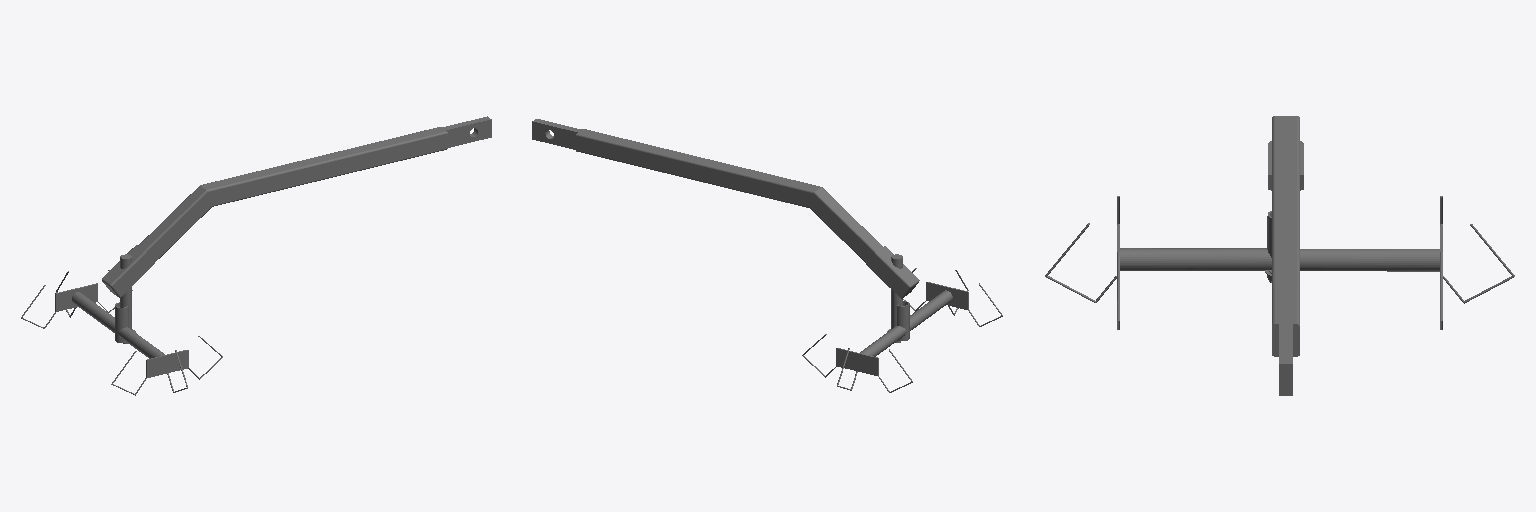
The robot description file, URDF, robot "hoyer_sling":
<?xml version="1.0"?>
<robot name="hoyer_sling">



  <!-- Base Link -->
  <link name="base">
    <inertial>
      <origin xyz="0 0 0" rpy="0 0 0"/>  <!-- Keep inertial origin neutral -->
      <mass value="5.0"/>  
      <inertia ixx="0.5" ixy="0.0" ixz="0.0" iyy="0.5" iyz="0.0" izz="0.5"/>  
    </inertial>
    <visual>  
      <origin xyz="0 0.5 0" rpy="1.57 0 0"/>  <!-- Apply rotation to visual -->
      <geometry>
        <mesh filename="package://hoyer_sling_urdf/meshes/hoyer_lift_agent_urdf/base.STL" scale="0.001 0.001 0.001"/>
      </geometry>
      <material name="grey">
	      <color rgba="0.5 0.5 0.5 1.0"/>
      </material>
    </visual>
    <collision>
      <origin xyz="0 0 0" rpy="1.57 0 0"/>  <!-- Apply rotation to collision geometry if necessary -->
      <geometry>
        <mesh filename="package://hoyer_sling_urdf/meshes/hoyer_lift_agent_urdf/base.STL" scale="0.001 0.001 0.001"/>
      </geometry>
    </collision>
  </link>

  <!-- Lift Link -->
    <link name="lift">
    <inertial>
      <origin xyz="0 0 0" rpy="-1.57 0 0"/>
      <mass value="10.0"/>  
      <inertia ixx="1.0" ixy="0.0" ixz="0.0" iyy="1.0" iyz="0.0" izz="1.0"/>  <!-- 设置惯性矩 -->
    </inertial>
    <visual>
      <origin xyz="-0.001 -0.025 -0.2" rpy="1.57 0 3.14159"/>  <!-- Apply rotation to visual -->
      <geometry>
        <mesh filename="package://hoyer_sling_urdf/meshes/hoyer_lift_agent_urdf/lift.STL" scale="0.001 0.001 0.001"/>
      </geometry>
      <material name="grey">
    <color rgba="0.5 0.5 0.5 1.0"/>
      </material>
    </visual>
    <collision>
    <origin xyz="-0.001 -0.025 -0.2" rpy="1.57 0 3.14159"/>   <!-- Apply rotation to collision geometry if necessary -->
      <geometry>
        <mesh filename="package://hoyer_sling_urdf/meshes/hoyer_lift_agent_urdf/lift.STL" scale="0.001 0.001 0.001"/>
      </geometry>
    </collision>
  </link>

  <!-- pitch_frame Link -->
  <link name="pitch_frame">
    <inertial>
      <origin xyz="0 0 0" rpy="0 0 0"/>
      <mass value="10.0"/>  
      <inertia ixx="1.0" ixy="0.0" ixz="0.0" iyy="0.0" iyz="0.0" izz="0.0"/>  <!-- 设置惯性矩 -->
    </inertial>
    <visual>
      <origin xyz="-0.02 0.02 -0.195" rpy="1.57 0 0"/>  <!-- Apply rotation to visual -->
      <geometry>
        <mesh filename="package://hoyer_sling_urdf/meshes/hoyer_lift_agent_urdf/inner.STL" scale="0.001 0.001 0.001"/>
      </geometry>
      <material name="grey">
	  <color rgba="0.5 0.5 0.5 1.0"/>
      </material>
    </visual>
    <collision>
      <origin xyz="-0.02 0.02 -0.195" rpy="1.57 0 0"/>  <!-- Apply rotation to collision geometry if necessary -->
      <geometry>
        <mesh filename="package://hoyer_sling_urdf/meshes/hoyer_lift_agent_urdf/inner.STL" scale="0.001 0.001 0.001"/>
      </geometry>
    </collision>
  </link>

  <!-- pitch_frame Link -->
  <link name="frame">
    <inertial>
      <origin xyz="0 0 0" rpy="0 0 0"/>
      <mass value="10.0"/>  
      <inertia ixx="1.0" ixy="0.0" ixz="0.0" iyy="1.0" iyz="0.0" izz="1.0"/>  <!-- 设置惯性矩 -->
    </inertial>
    <visual>
      <origin xyz="-0.17 0.32 -0.05" rpy="1.57 0 0"/>  <!-- Apply rotation to visual -->
      <geometry>
        <mesh filename="package://hoyer_sling_urdf/meshes/hoyer_lift_agent_urdf/outer.STL" scale="0.001 0.001 0.001"/>
      </geometry>
      <material name="grey">
	  <color rgba="0.5 0.5 0.5 1.0"/>
      </material>
    </visual>
    <collision>
      <origin xyz="-0.17 0.32 -0.05" rpy="1.57 0 0"/>  <!-- Apply rotation to collision geometry if necessary -->
      <geometry>
        <mesh filename="package://hoyer_sling_urdf/meshes/hoyer_lift_agent_urdf/outer.STL" scale="0.001 0.001 0.001"/>
      </geometry>
    </collision>
  </link>



  <!-- Joint between base and lift -->
  <joint name="base_to_lift" type="continuous">
    <parent link="base"/>
    <child link="lift"/>
    <origin xyz="1.235 0.0 1.18" rpy="0 0 0"/>
    <axis xyz="0 1 0"/>  
    <limit effort="50.0" velocity="1.0"/>  
  </joint>

  <!-- Joint between life and pitch_frame -->
  <joint name="lift_to_pf" type="continuous">
    <parent link="lift"/>
    <child link="pitch_frame"/>
    <origin xyz="-1.05 0.0 -0.14" rpy="0 0 0"/>
    <axis xyz="0 1 0"/>  
    <limit effort="50.0" velocity="1.0"/>  
  </joint>

  <!-- Joint between pitch_frame and frame -->
  <joint name="pf_to_frame" type="continuous">
    <parent link="pitch_frame"/>
    <child link="frame"/>
    <origin xyz="0 0.0 -0.175" rpy="0 0 0"/>
    <axis xyz="0 0 1"/>  
    <limit effort="50.0" velocity="1.0"/>  
  </joint>
</robot>

--- Facts derived from the render (not from the file) ---
The picture shows the robot from 3 angles, left to right: view 1: azimuth 30°, elevation 25°; view 2: azimuth 150°, elevation 25°; view 3: azimuth 270°, elevation 25°; orthographic projection.
Robot: hoyer_sling — 4 links, 3 joints (3 continuous); root link base; default pose: all joints at 0.
Links seen in each view (by area): view 1: lift, frame; view 2: lift, frame; view 3: frame, lift.
Link boxes in pixels (x1=…): lift: x1=102, y1=116, x2=491, y2=297; frame: x1=21, y1=270, x2=222, y2=395; lift: x1=532, y1=119, x2=919, y2=298; frame: x1=802, y1=268, x2=1002, y2=392; frame: x1=1045, y1=196, x2=1514, y2=329; lift: x1=1268, y1=116, x2=1303, y2=395.
Size in the robot's own frame: 1.22 by 0.6567 by 0.4008 metres.
3 mesh visuals loaded from 4 distinct referenced files (3 binary STL); not drawn: 1 (reference not matched to a file when rendering).
